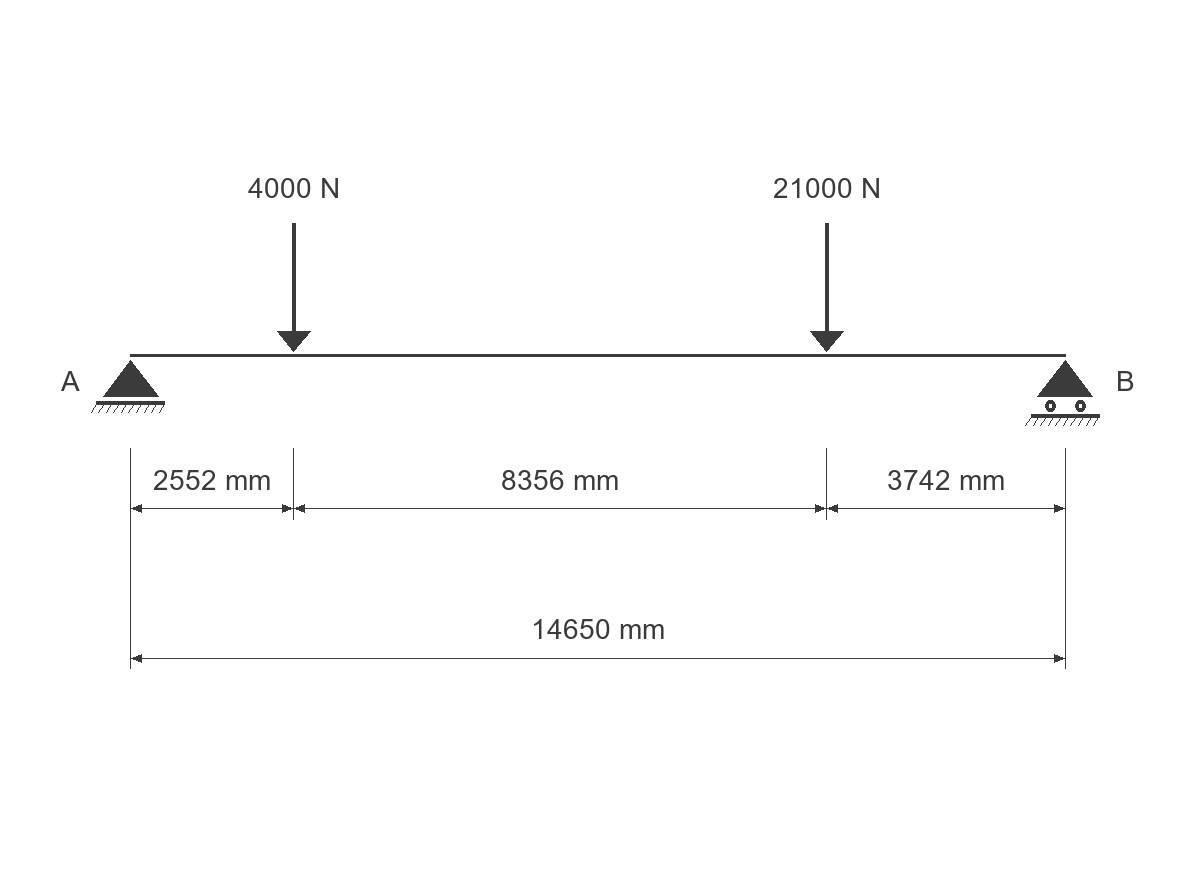pin_support: (91, 360, 165, 413)
point_load: (277, 223, 311, 352), (810, 223, 844, 352)
roller_support: (1025, 360, 1100, 426)
